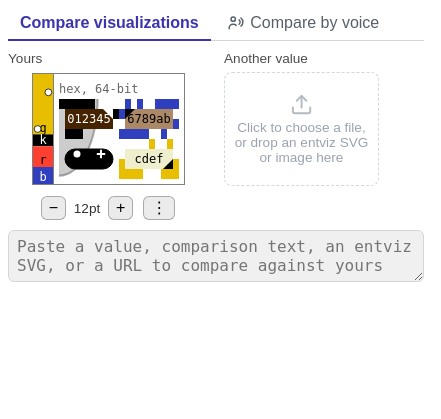
Test: EntvizCompare › pasting a matching value → `=`; a different value → `≠`
Replace the text in the text box labelled "Paste" with "0123456789abcdef". click: (216, 256)
box: [8,230,424,282]
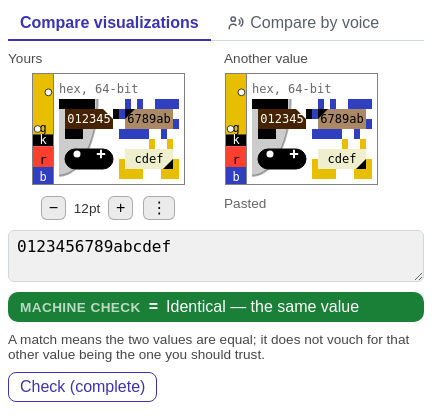
Result: the message shows "=" at [149,298,158,315]
Result: the message shows "Identical" at [166,298,359,315]
Result: the text "Pasted" is shown at [224,196,266,211]
Replace the text in the text box named "Paste" with "fedcba9876543210". click: (216, 256)
box: [8,230,424,282]
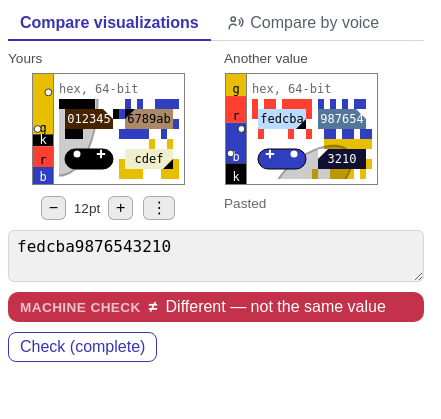
Result: the message shows "≠" at [149,298,158,315]
